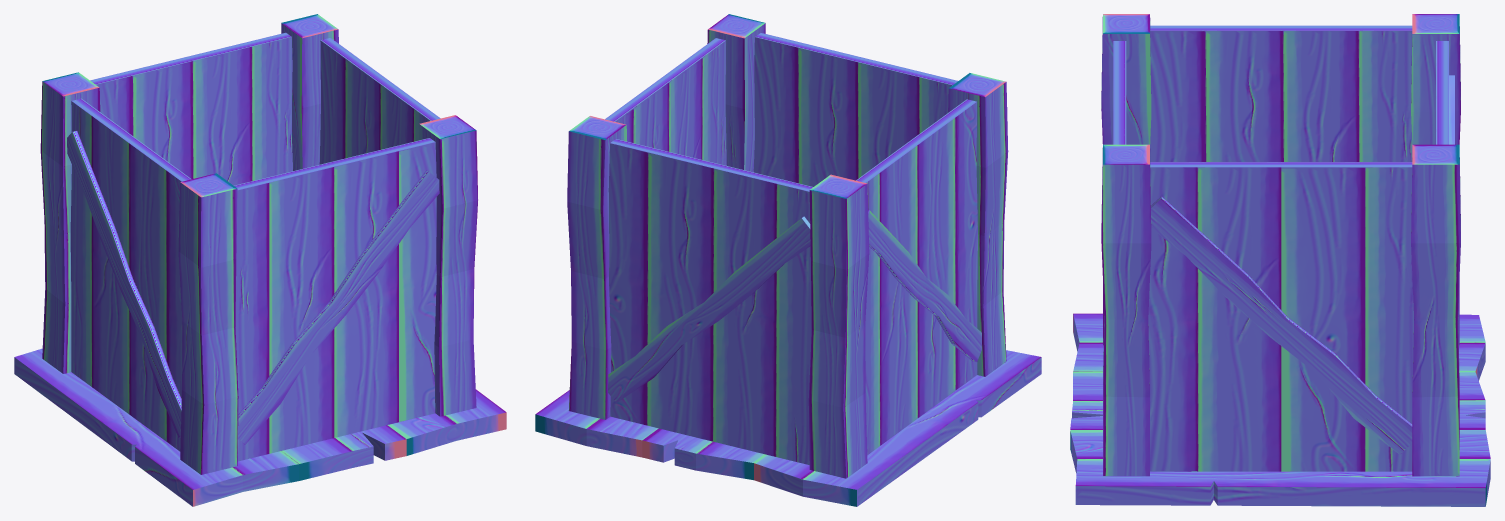
The model's file is SM_Crate_B.fbx.
3 views of the same model, side by side, from view 1: azimuth 30°, elevation 25°; view 2: azimuth 150°, elevation 25°; view 3: azimuth 270°, elevation 25° (orthographic). The views are drawn at different scales.
Visible parts, largest first — view 1: SM_Crate_B; view 2: SM_Crate_B; view 3: SM_Crate_B.
Boxes of the visible parts, x1,y1,x2,y2 form: SM_Crate_B: (14, 14, 506, 506); SM_Crate_B: (535, 14, 1041, 506); SM_Crate_B: (1070, 14, 1490, 506).
Bounding box in the file's own units: 78.65 × 69.5 × 80.17.
